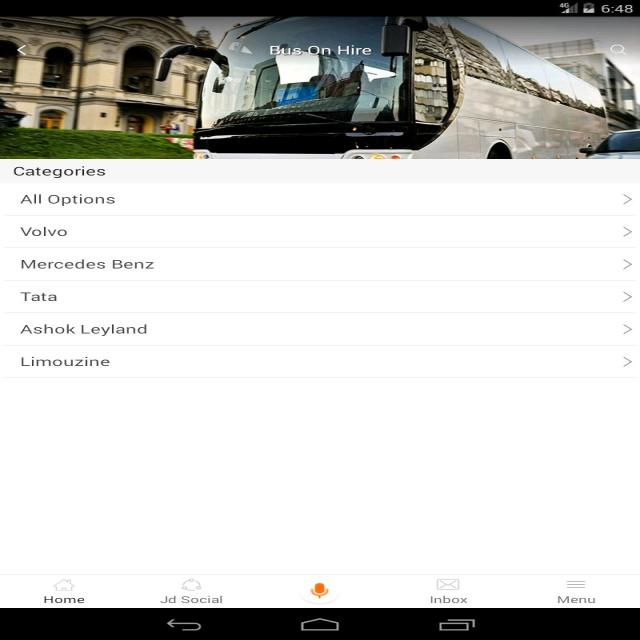button: (0, 183, 640, 215), (2, 282, 638, 314), (0, 249, 638, 280), (0, 347, 638, 378), (2, 316, 638, 346), (1, 218, 636, 247), (143, 574, 240, 608), (29, 575, 109, 608), (542, 575, 614, 608), (285, 574, 353, 607), (419, 575, 484, 608), (605, 42, 633, 59), (15, 43, 32, 60)
heading: (11, 163, 109, 181), (270, 43, 370, 58)
image: (0, 17, 640, 158)
text: (19, 320, 151, 338), (16, 256, 159, 272), (18, 190, 116, 209), (15, 352, 114, 369), (18, 223, 72, 239), (16, 288, 64, 304)
